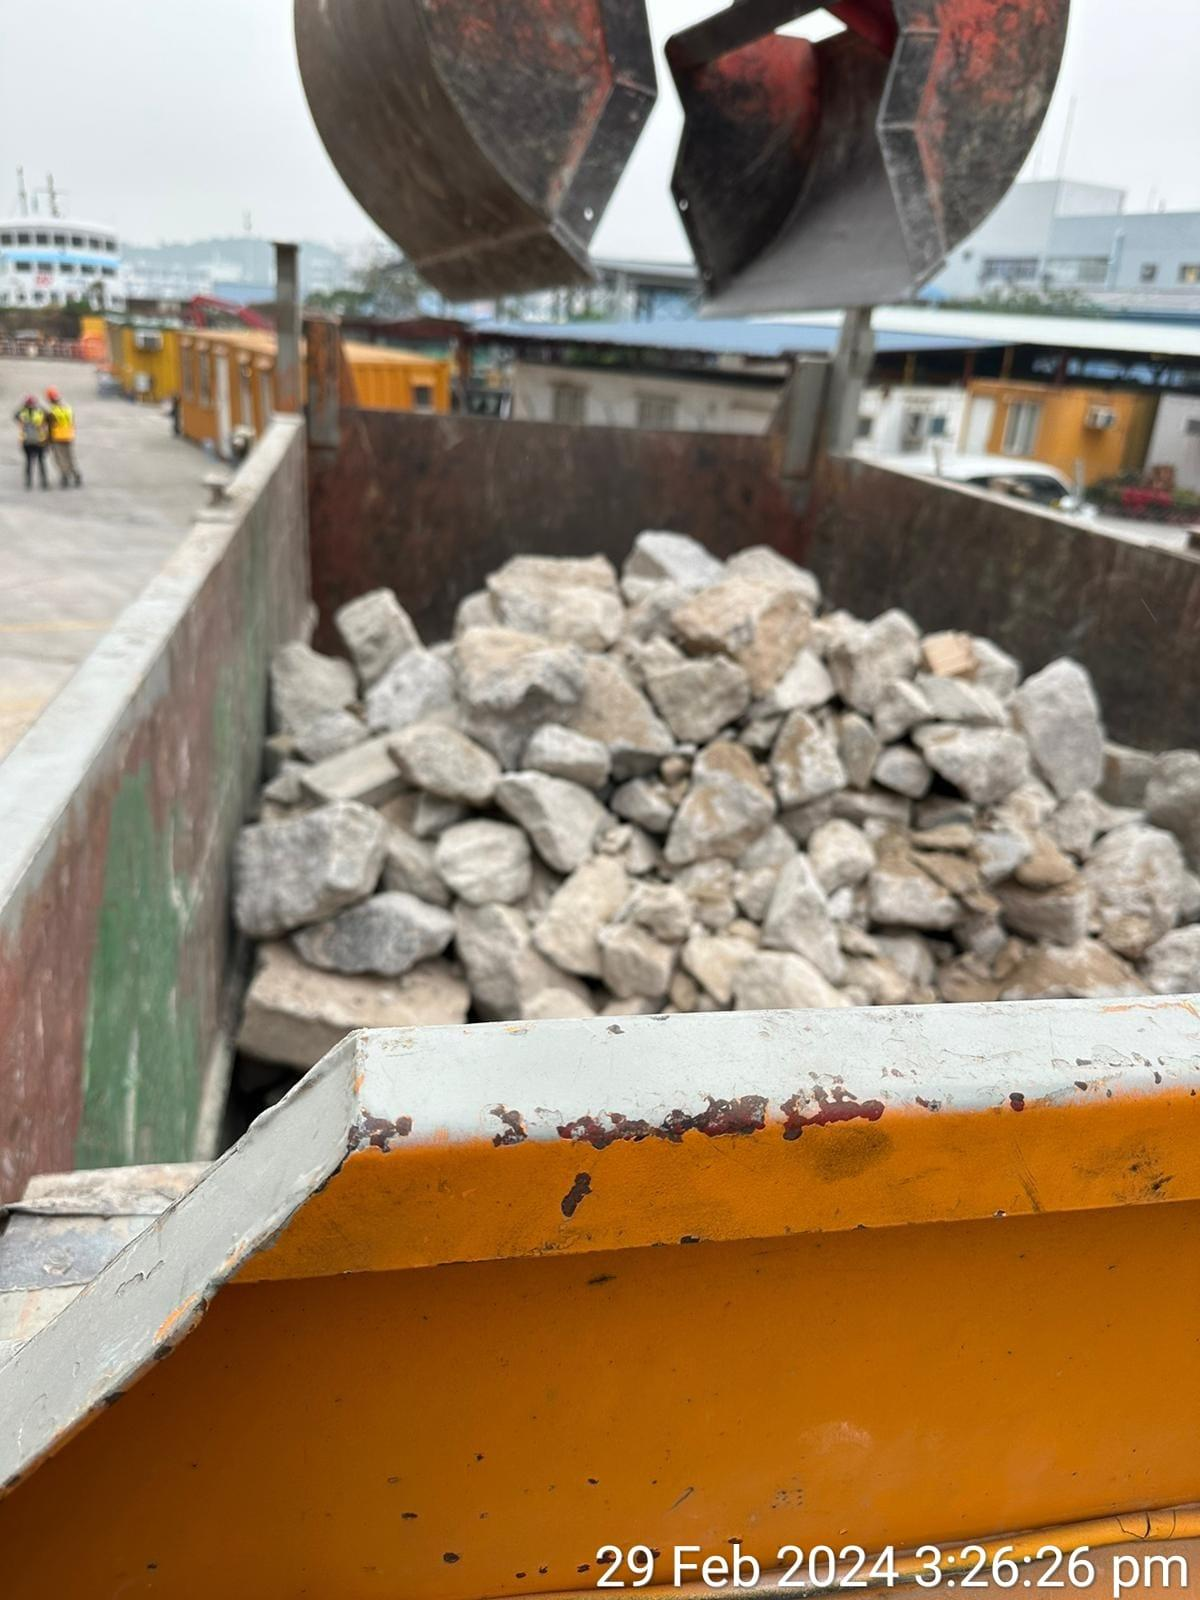stone: (228, 528, 1197, 1066)
